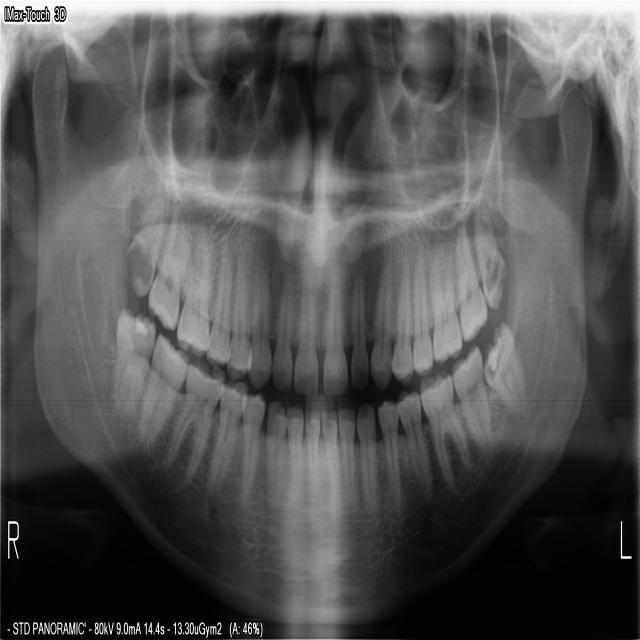LCD: (355, 398, 377, 513)
LCU: (368, 246, 392, 395)
LID: (321, 406, 343, 518), (335, 403, 355, 505)
LIU: (320, 251, 348, 399), (348, 262, 368, 395)
LMD: (419, 367, 473, 496), (451, 340, 498, 462), (482, 316, 530, 419)
LMU: (426, 231, 462, 370), (472, 189, 509, 311), (455, 219, 488, 342)
LPMD: (395, 386, 433, 504), (375, 397, 401, 513)
LPMU: (391, 247, 413, 389), (412, 241, 433, 379)
RCD: (263, 396, 285, 514)
RCU: (246, 239, 269, 392)
RID: (285, 400, 302, 514), (303, 406, 321, 502)
RIU: (290, 249, 318, 397), (269, 252, 292, 394)
RMD: (161, 357, 222, 497), (135, 332, 184, 450), (107, 301, 155, 418)
RMU: (145, 201, 190, 332), (121, 190, 169, 298), (173, 220, 210, 359)
RPMD: (201, 377, 246, 508), (237, 390, 265, 512)
RPMU: (201, 229, 231, 368), (224, 221, 247, 383)
